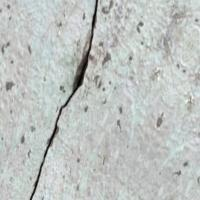crack: (17, 0, 107, 199)
